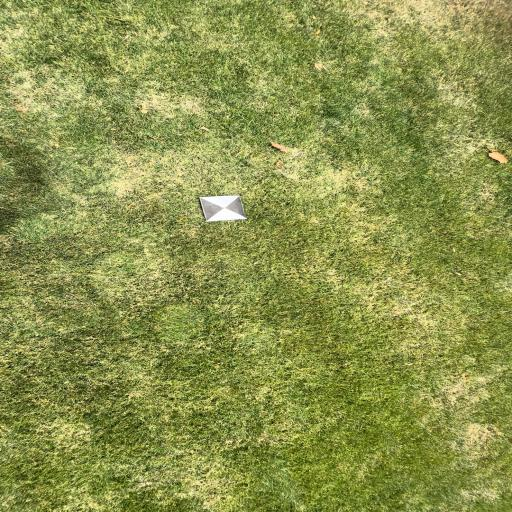target: (200, 196, 246, 222)
